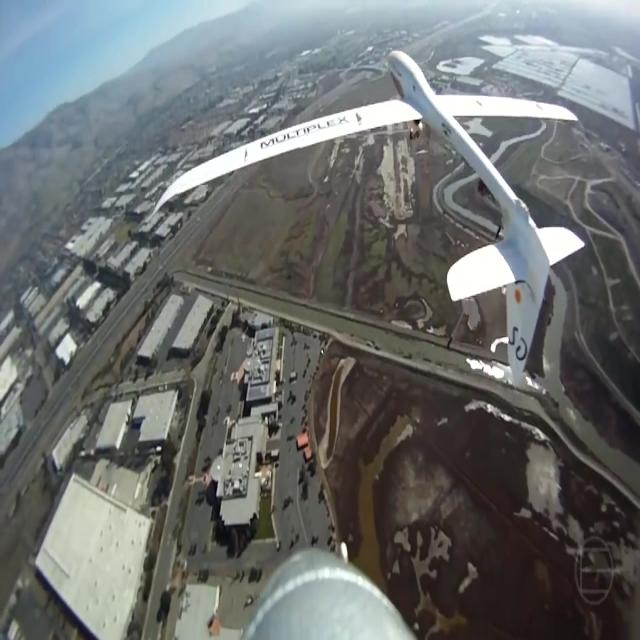iha: (151, 49, 588, 390)
